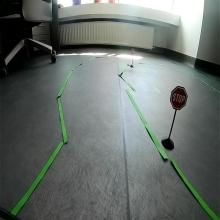stop: (170, 86, 188, 110)
